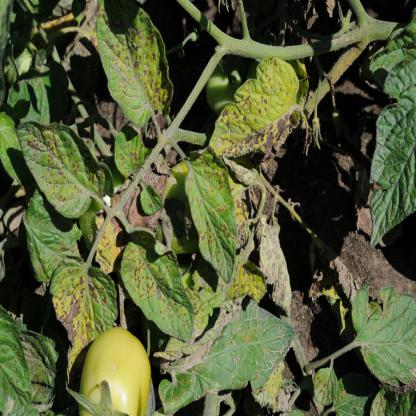tomato septoria leaf spot: (209, 53, 302, 167), (91, 1, 175, 127), (49, 239, 117, 378), (178, 146, 239, 285), (14, 118, 98, 218), (121, 232, 200, 335)
